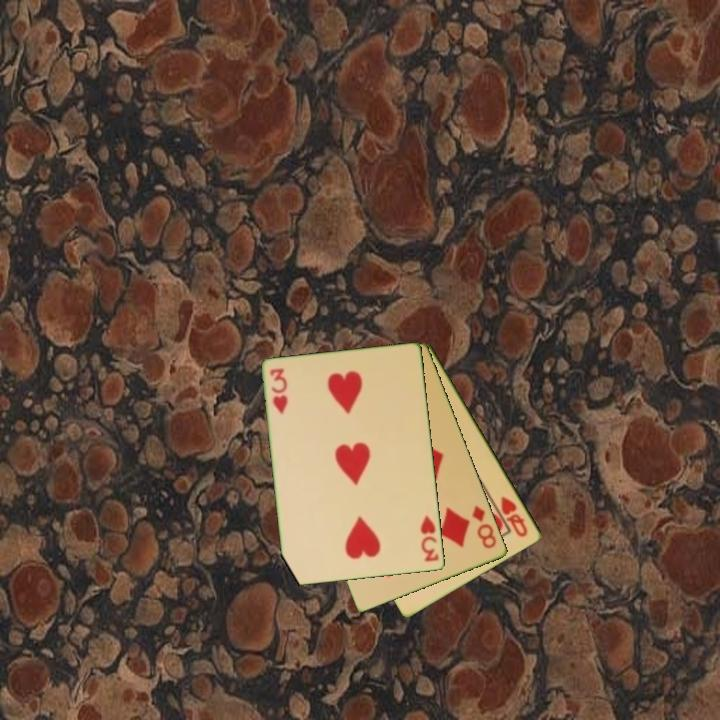3h: (417, 512, 442, 565), (267, 365, 291, 417)
8d: (469, 502, 500, 552)
Qh: (498, 492, 531, 540)
